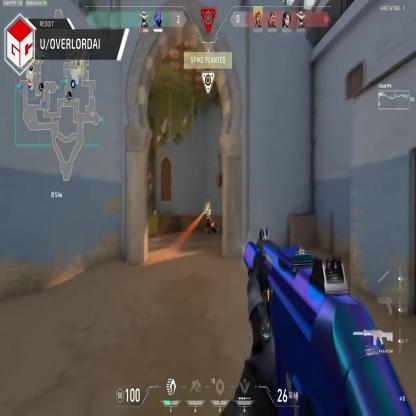enemy: (204, 201, 212, 232)
enemy_head: (206, 202, 210, 209)
